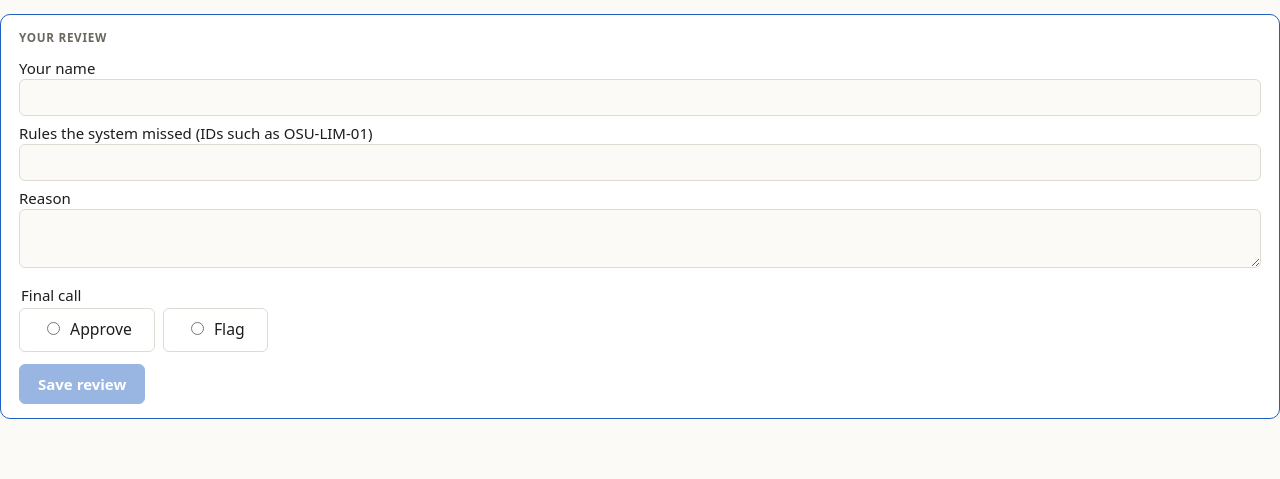
Test: shows each problem the server reports
Type "Ana" into the field labelled "Your name". click: [640, 97]
box: [19, 79, 1261, 116]
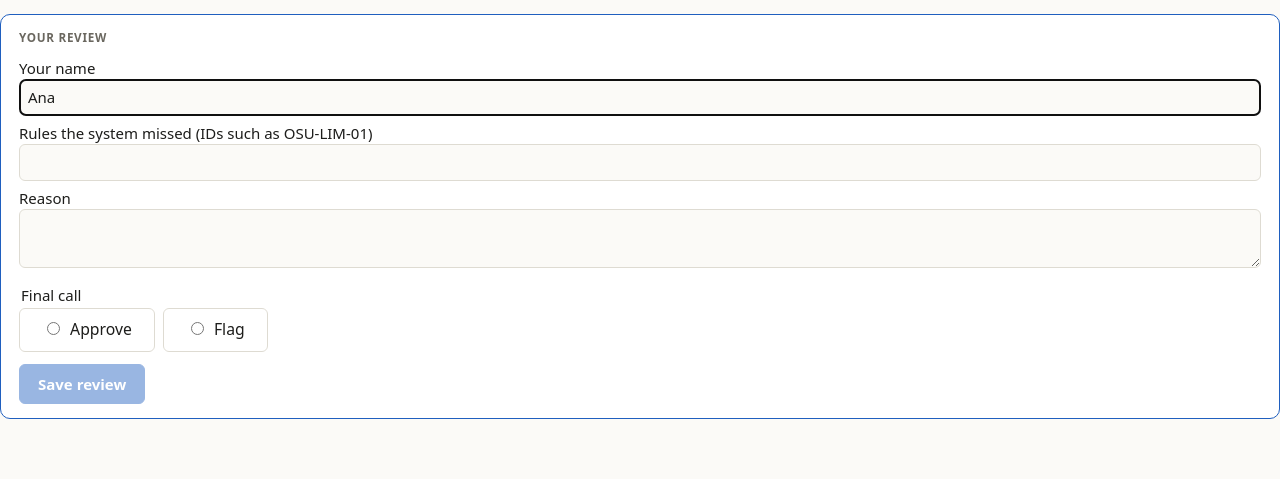
Type "OSU-XYZ-99" into the field labelled "Rules the system missed (IDs such as OSU-LIM-01)". click: [640, 162]
box: [19, 144, 1261, 180]
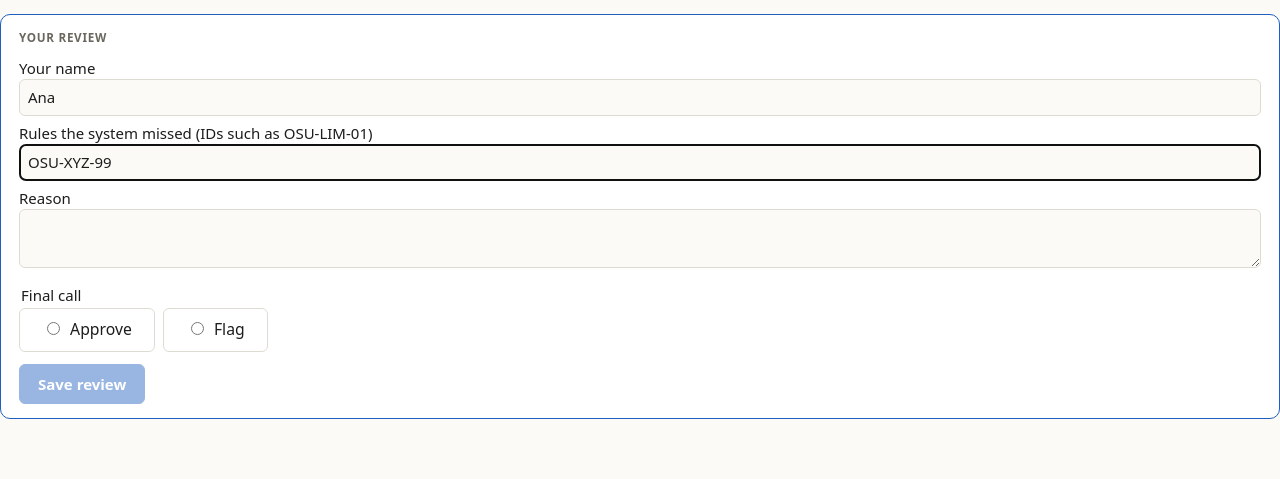
Click the radio button labelled "Approve". click: [54, 328]
box: [47, 322, 60, 335]
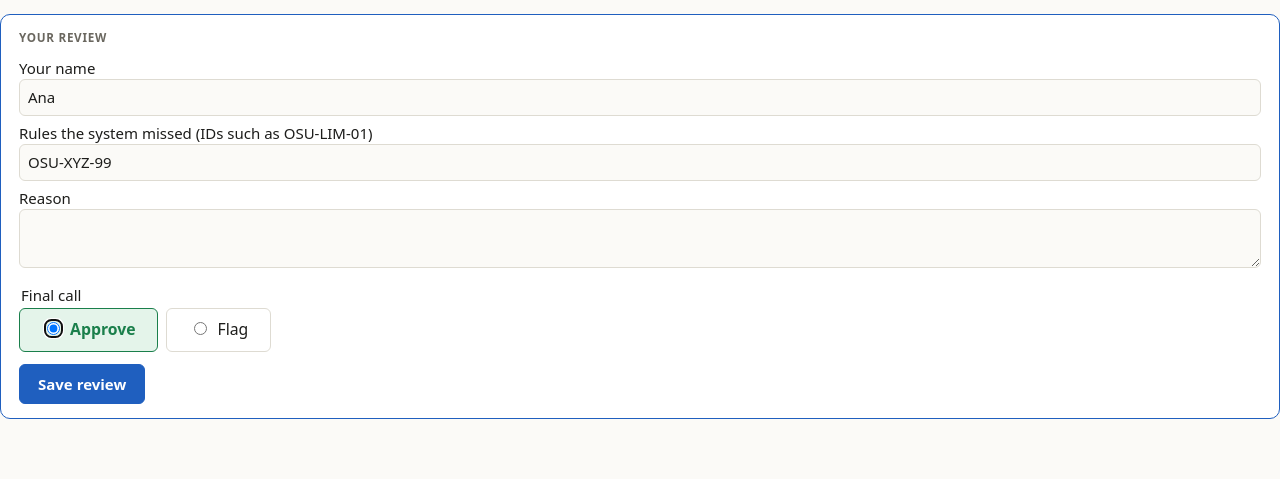
Click the button "Save review". click: [82, 384]
box: [19, 364, 145, 404]
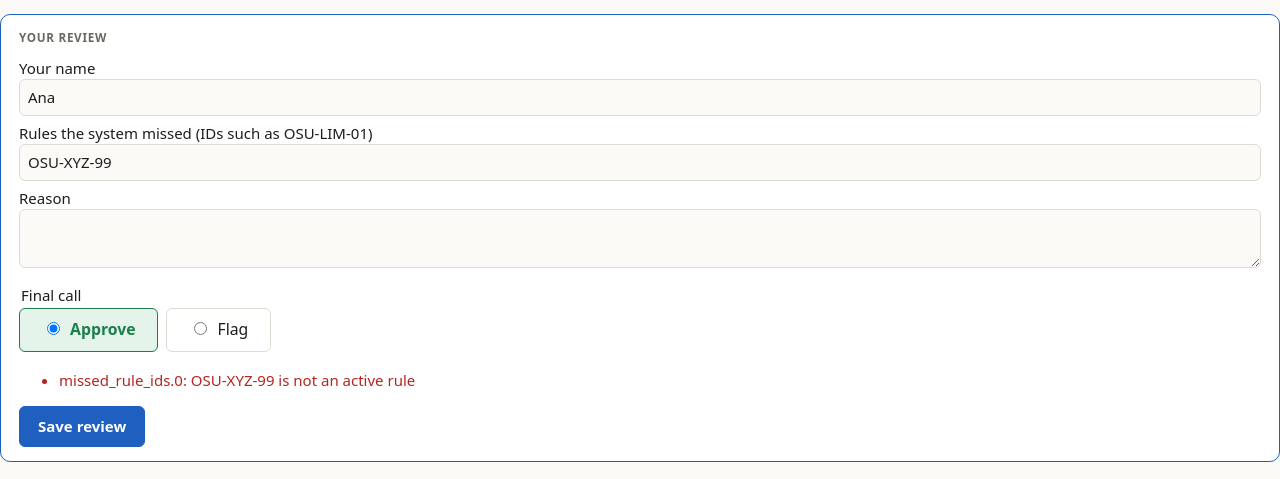
Expected: the message reads "missed_rule_ids.0: OSU-XYZ-99 is not an active rule", [59, 370, 415, 390]
